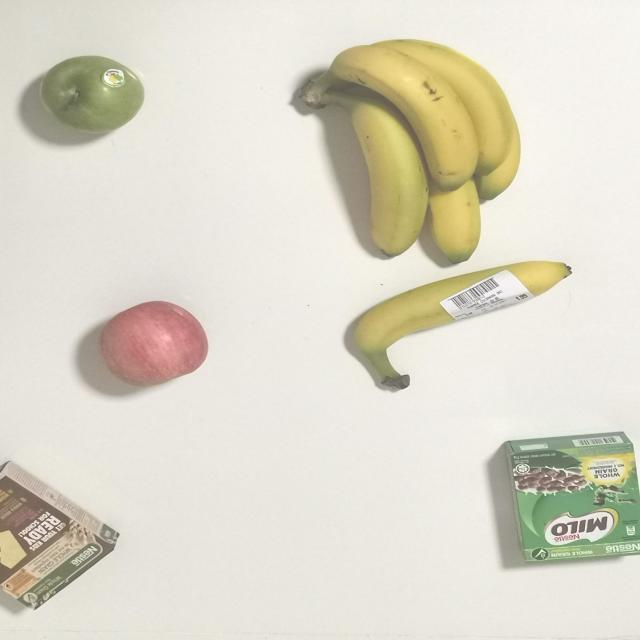apple: (90, 299, 214, 392), (32, 47, 156, 139)
banana: (278, 41, 544, 262), (337, 251, 578, 398)
